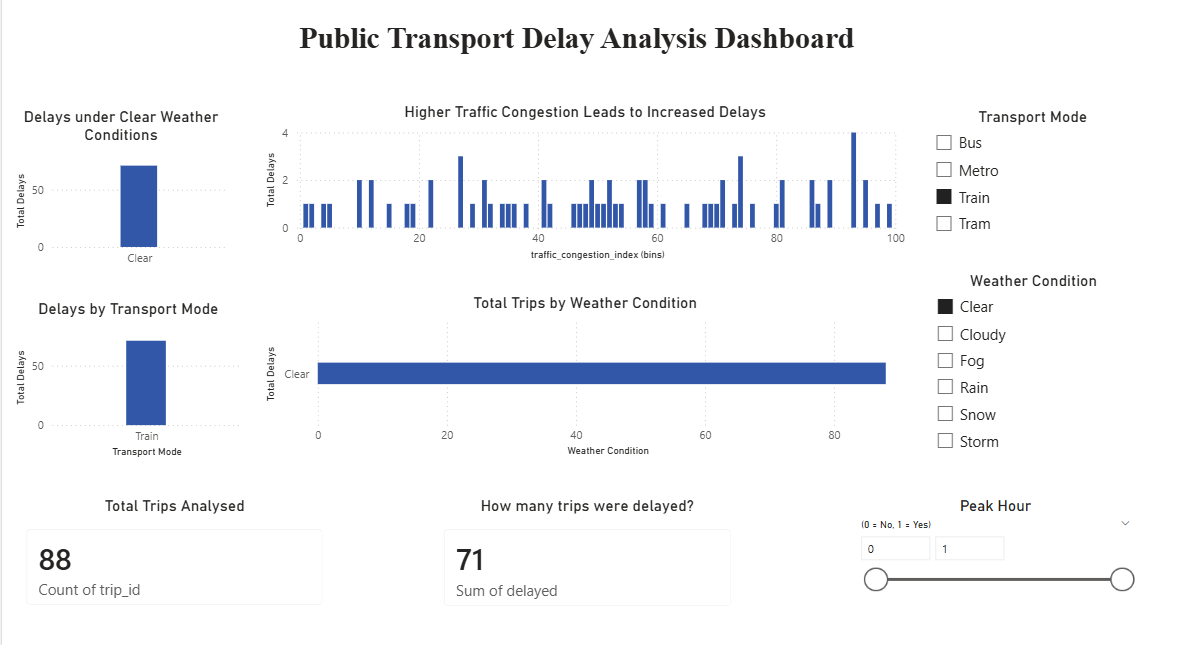

This screenshot's page, from the dashboard's own definition file:
{"tool":"powerbi","page":{"name":"Page 1","canvas":[1280,720],"ordinal":0},"visuals":[{"type":"cardVisual","title":"Total Trips Analysed","fields":{"Data":["CountNonNull(public_transport_delays.trip_id)"]},"box":[10,550,354.3,135.7],"z":0},{"type":"cardVisual","title":"How many trips were delayed?","fields":{"Data":["Sum(public_transport_delays.delayed)"]},"box":[460,550,344.3,137.1],"z":1000},{"type":"textbox","box":[315.7,12.9,642.9,87.1],"z":2000},{"type":"slicer","title":"Transport Mode","fields":{"Values":["public_transport_delays.transport_type"]},"box":[997.1,130,234.3,161.4],"z":3000},{"type":"slicer","title":"Weather Condition","fields":{"Values":["public_transport_delays.weather_condition"]},"box":[998.6,307.1,232.9,205.7],"z":4000},{"type":"slicer","title":"Peak Hour ","fields":{"Values":["public_transport_delays.peak_hour"]},"box":[915.7,550,315.7,137.1],"z":5000},{"type":"clusteredColumnChart","title":"Delays under Clear Weather Conditions","fields":{"Y":["Sum(public_transport_delays.delayed)"],"Category":["public_transport_delays.weather_condition"]},"box":[10,130,238.6,181.4],"z":6000},{"type":"clusteredColumnChart","title":"Delays by Transport Mode","fields":{"Y":["public_transport_delays.Total Delays"],"Category":["public_transport_delays.transport_type"]},"box":[10,337.1,254.3,175.7],"z":7000},{"type":"clusteredColumnChart","title":"Higher Traffic Congestion Leads to Increased Delays","fields":{"Category":["public_transport_delays.traffic_congestion_index"],"Y":["Sum(public_transport_delays.delayed)"]},"box":[280,124.3,701.4,175.7],"z":9000},{"type":"clusteredBarChart","title":"Total Trips by Weather Condition","fields":{"Category":["public_transport_delays.weather_condition"],"Y":["CountNonNull(public_transport_delays.trip_id)"]},"box":[280,331.4,701.4,181.4],"z":10000}]}

Visuals, with their boxes on the page's 1280x720 design canvas (x1, y1, x2, y2). These are canvas units, not pixel positions in the 1182x645 screenshot, which may show the page scaled, cropped or inside an application window:
"Total Trips Analysed" cardVisual: BBox(10, 550, 364, 686)
"How many trips were delayed?" cardVisual: BBox(460, 550, 804, 687)
textbox: BBox(316, 13, 959, 100)
"Transport Mode" slicer: BBox(997, 130, 1231, 291)
"Weather Condition" slicer: BBox(999, 307, 1232, 513)
"Peak Hour " slicer: BBox(916, 550, 1231, 687)
"Delays under Clear Weather Conditions" clusteredColumnChart: BBox(10, 130, 249, 311)
"Delays by Transport Mode" clusteredColumnChart: BBox(10, 337, 264, 513)
"Higher Traffic Congestion Leads to Increased Delays" clusteredColumnChart: BBox(280, 124, 981, 300)
"Total Trips by Weather Condition" clusteredBarChart: BBox(280, 331, 981, 513)
